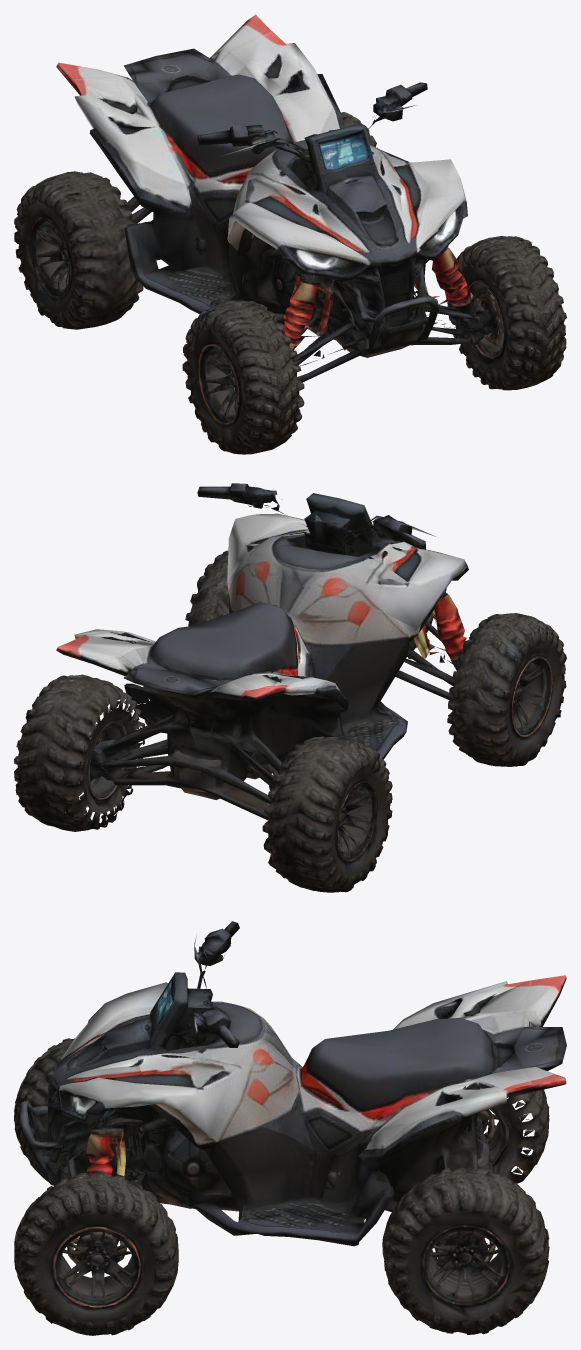
The model's file is quad-bike.glb.
The picture shows the model from 3 angles, top to bottom: view 1: azimuth 30°, elevation 25°; view 2: azimuth 150°, elevation 25°; view 3: azimuth 270°, elevation 25°; orthographic projection. The views are drawn at different scales.
Visible parts, largest first — view 1: quad-chassis-geometry, quad-wheel-rear-right-geometry, quad-wheel-front-right-geometry, quad-wheel-front-left-geometry; view 2: quad-chassis-geometry, quad-wheel-rear-right-geometry, quad-wheel-rear-left-geometry, quad-wheel-front-right-geometry, quad-wheel-front-left-geometry; view 3: quad-chassis-geometry, quad-wheel-rear-left-geometry, quad-wheel-front-left-geometry, quad-wheel-rear-right-geometry, quad-wheel-front-right-geometry.
Boxes of the visible parts, x1,y1,x2,y2 form: quad-chassis-geometry: (56, 14, 474, 382); quad-wheel-rear-right-geometry: (14, 171, 143, 329); quad-wheel-front-right-geometry: (182, 300, 304, 454); quad-wheel-front-left-geometry: (447, 236, 566, 390); quad-chassis-geometry: (56, 483, 468, 820); quad-wheel-rear-right-geometry: (262, 735, 392, 892); quad-wheel-rear-left-geometry: (14, 674, 150, 831); quad-wheel-front-right-geometry: (447, 613, 566, 766); quad-wheel-front-left-geometry: (185, 550, 228, 626); quad-chassis-geometry: (19, 921, 566, 1246); quad-wheel-rear-left-geometry: (377, 1166, 549, 1334); quad-wheel-front-left-geometry: (14, 1171, 178, 1335); quad-wheel-rear-right-geometry: (475, 1089, 549, 1183); quad-wheel-front-right-geometry: (14, 1038, 74, 1182).
Bounding box in the file's own units: 0.7179 × 0.5757 × 0.9976.
Materials: 1 (1 with a texture image).
